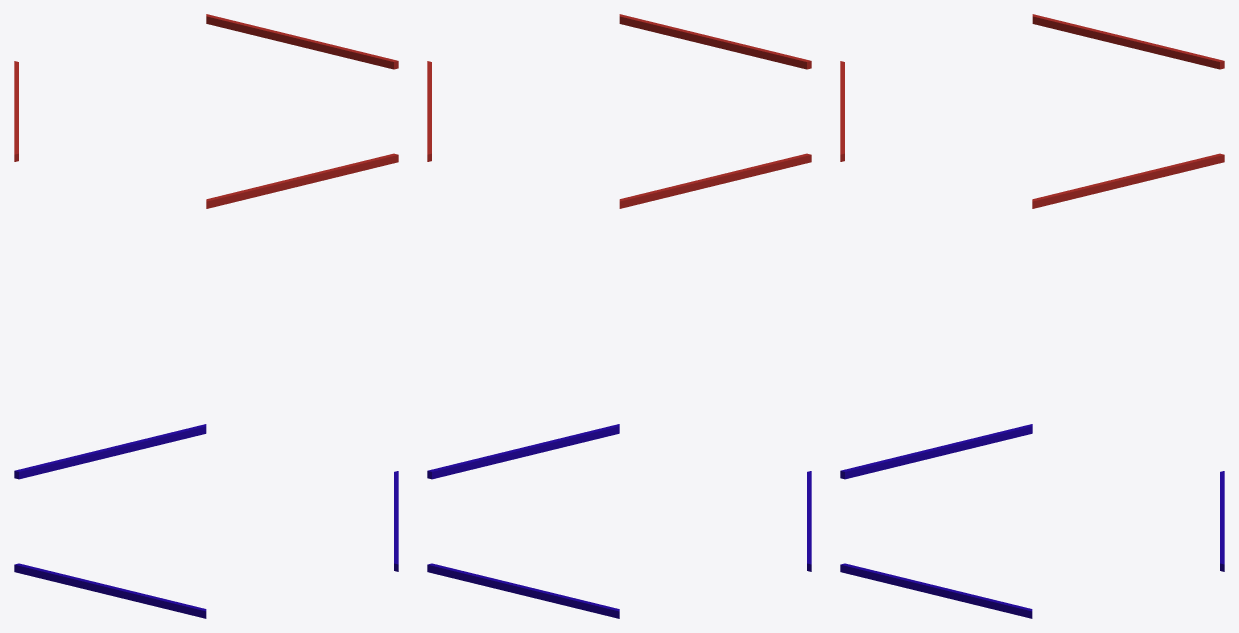
Rendered from Slot_V2_Highlight.fbx.
The picture shows the model from 3 angles, left to right: view 1: azimuth 30°, elevation 25°; view 2: azimuth 150°, elevation 25°; view 3: azimuth 270°, elevation 25°; orthographic projection.
Visible parts, largest first — view 1: Slot_V2_Highlight; view 2: Slot_V2_Highlight; view 3: Slot_V2_Highlight.
Boxes of the visible parts, bbox=[...] form: Slot_V2_Highlight: bbox=[14, 14, 398, 618]; Slot_V2_Highlight: bbox=[427, 14, 811, 618]; Slot_V2_Highlight: bbox=[840, 14, 1224, 618].
Bounding box in the file's own units: 570 × 591 × 493.
